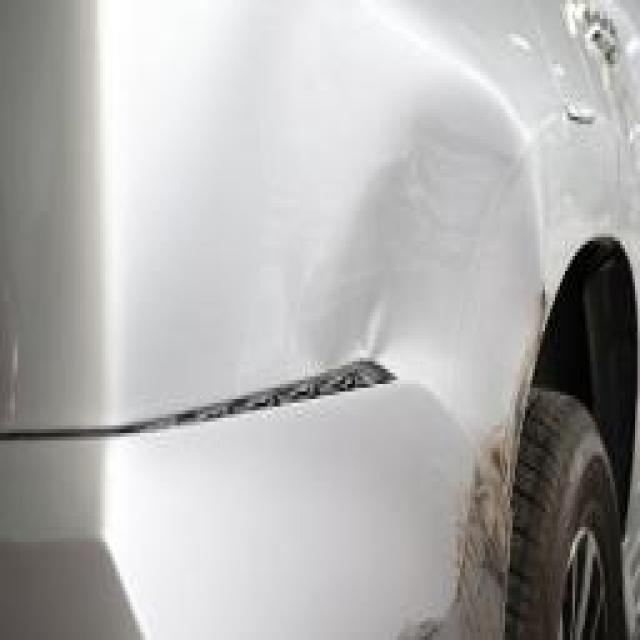Bumper: (435, 440, 498, 640)
Fender: (348, 60, 555, 471)
